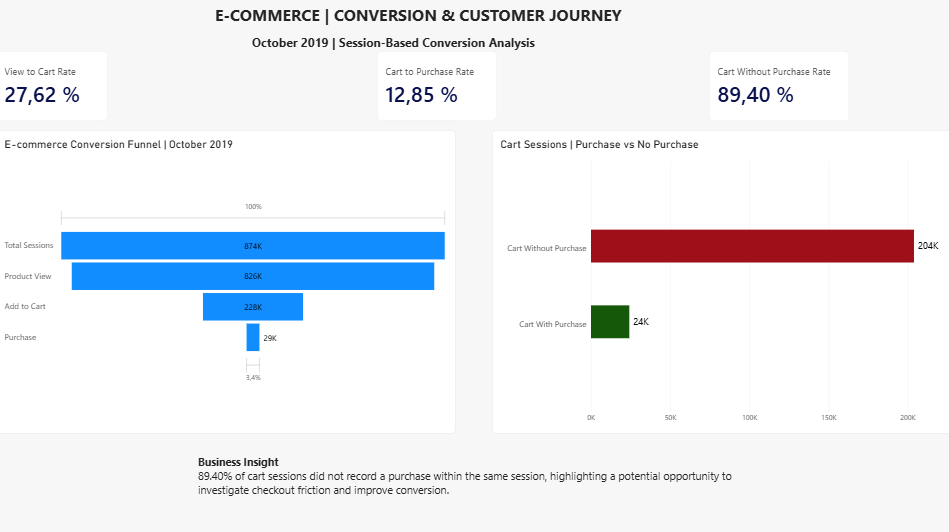

The page's visual inventory and layout, read from the dashboard file:
{"tool":"powerbi","page":{"name":"Conversion & Customer Journey","canvas":[1920,1080],"ordinal":1},"visuals":[{"type":"textbox","box":[437.8,14.6,1123.8,43.8],"z":0},{"type":"textbox","box":[512.9,75.1,577.5,35.4],"z":1},{"type":"funnel","title":"E-commerce Conversion Funnel | October 2019","fields":{"Category":["Conversion_Funnel.Step"],"Y":["Sum(Conversion_Funnel.Sessions)"]},"box":[0,269,919.5,606.7],"z":2},{"type":"cardVisual","fields":{"Data":["Conversion_Funnel.View to Cart Rate"]},"box":[0,110.5,223.1,139.7],"z":3},{"type":"cardVisual","fields":{"Data":["Conversion_Funnel.Cart to Purchase Rate"]},"box":[761,110.5,239.8,139.7],"z":4},{"type":"cardVisual","fields":{"Data":["Conversion_Funnel.Cart Without Purchase Rate"]},"box":[1425,110,280,140],"z":5},{"type":"clusteredBarChart","title":"Cart Sessions | Purchase vs No Purchase","fields":{"Category":["cart_analysis.metric"],"Y":["Sum(cart_analysis.value)"]},"box":[992.4,269,927.8,606.7],"z":6},{"type":"textbox","box":[404.5,915.3,1157.1,164.7],"z":7}]}

Visuals, with their boxes in screenshot pixels (x1, y1, x2, y2), scaled from the page's 1920x1080 canvas onto the 949x532 screenshot:
textbox: 216 7 772 29
textbox: 254 37 539 54
"E-commerce Conversion Funnel | October 2019" funnel: 0 133 454 431
cardVisual - Conversion_Funnel.View to Cart Rate: 0 54 110 123
cardVisual - Conversion_Funnel.Cart to Purchase Rate: 376 54 495 123
cardVisual - Conversion_Funnel.Cart Without Purchase Rate: 704 54 843 123
"Cart Sessions | Purchase vs No Purchase" clusteredBarChart: 491 133 948 431
textbox: 200 451 772 531
